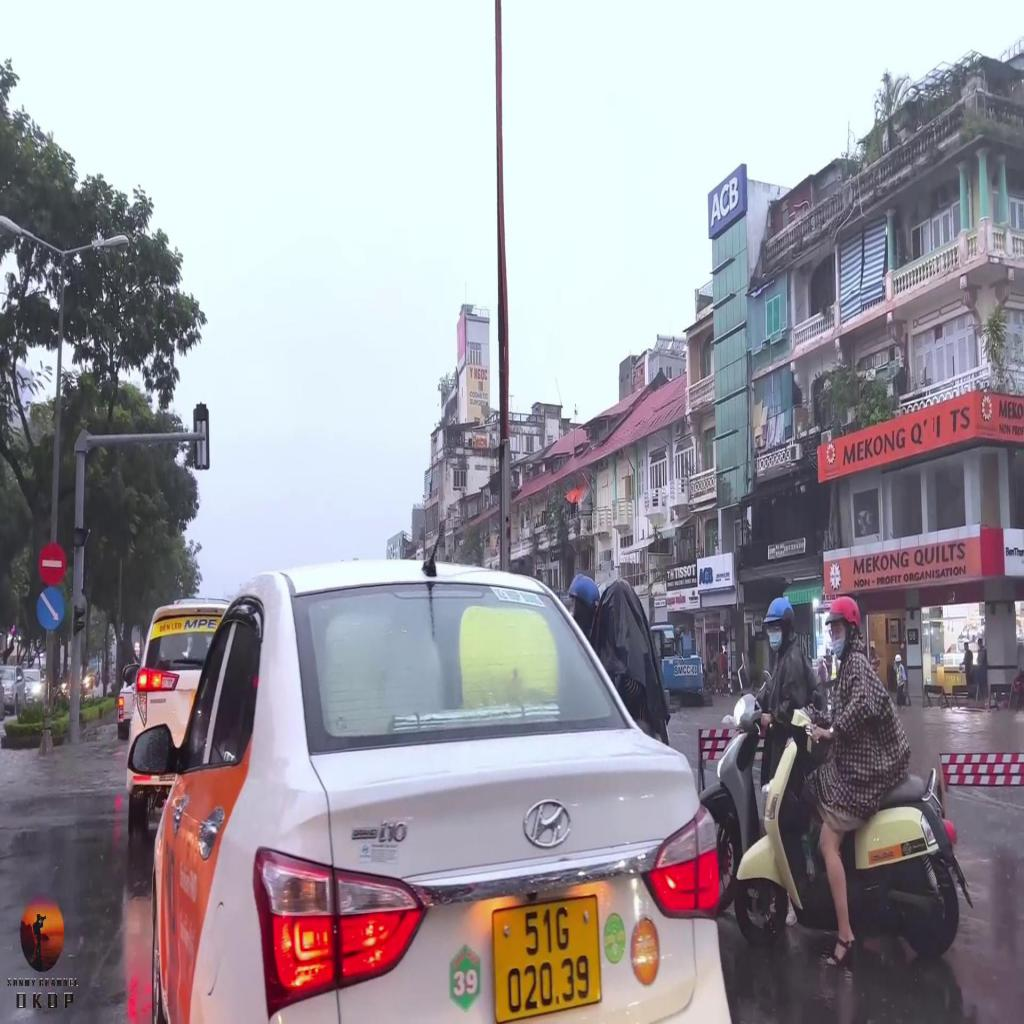cam_xe_di_nguoc_chieu: (37, 542, 67, 586)
huong_phai_di_vuot_chuong_ngai_vat_phai: (34, 583, 66, 633)
